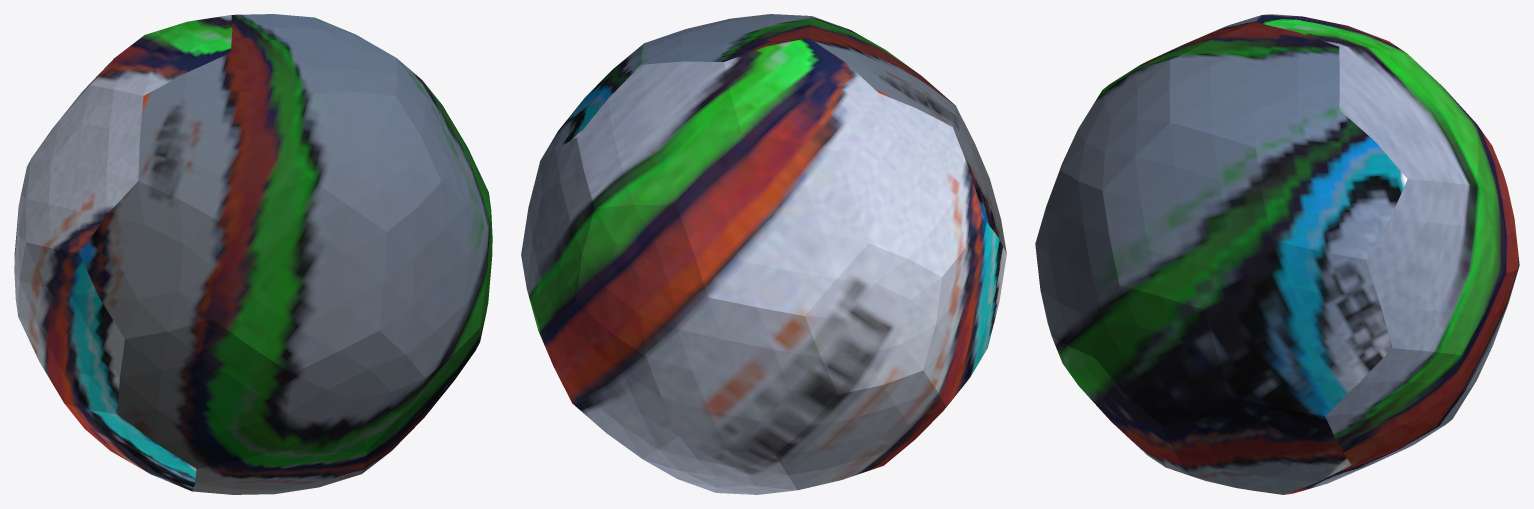
File: ball.dae
3 views of the same model, side by side, from view 1: azimuth 30°, elevation 25°; view 2: azimuth 150°, elevation 25°; view 3: azimuth 270°, elevation 25° (orthographic).
Visible parts, largest first — view 1: Sphere_soccerball; view 2: Sphere_soccerball; view 3: Sphere_soccerball.
Part boxes in pixels (x1,y1,x2,y2): Sphere_soccerball: (14, 14, 492, 494); Sphere_soccerball: (521, 14, 1006, 494); Sphere_soccerball: (1035, 14, 1519, 494).
Bounding box in the file's own units: 1.92 × 1.99 × 1.97.
